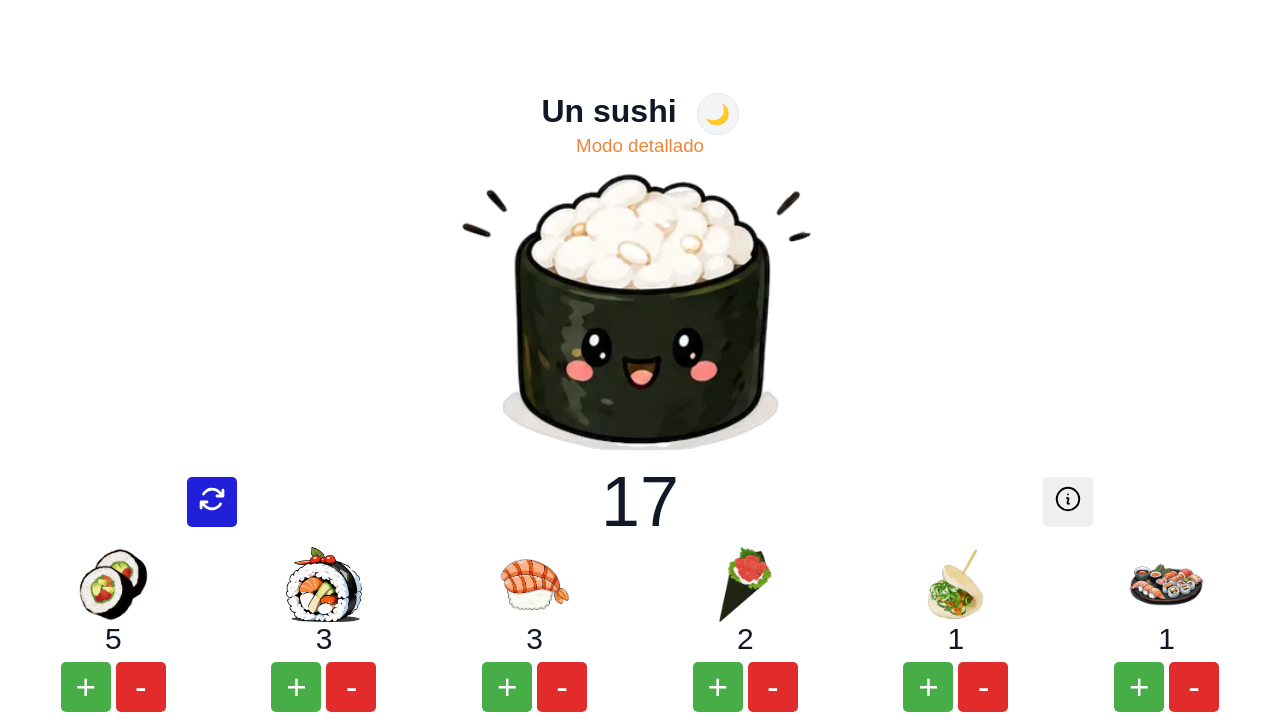
Test: SushiDetailedCounter › should decrement counter and uramaki when we pulse quit
The image size is (1280, 720).
(page scrolled)
Check: the 1st text "3" is shown, box top-left (316, 622), bottom-right (332, 656)
Click the 2nd button "-" at (352, 687), box top-left (326, 662), bottom-right (376, 712)
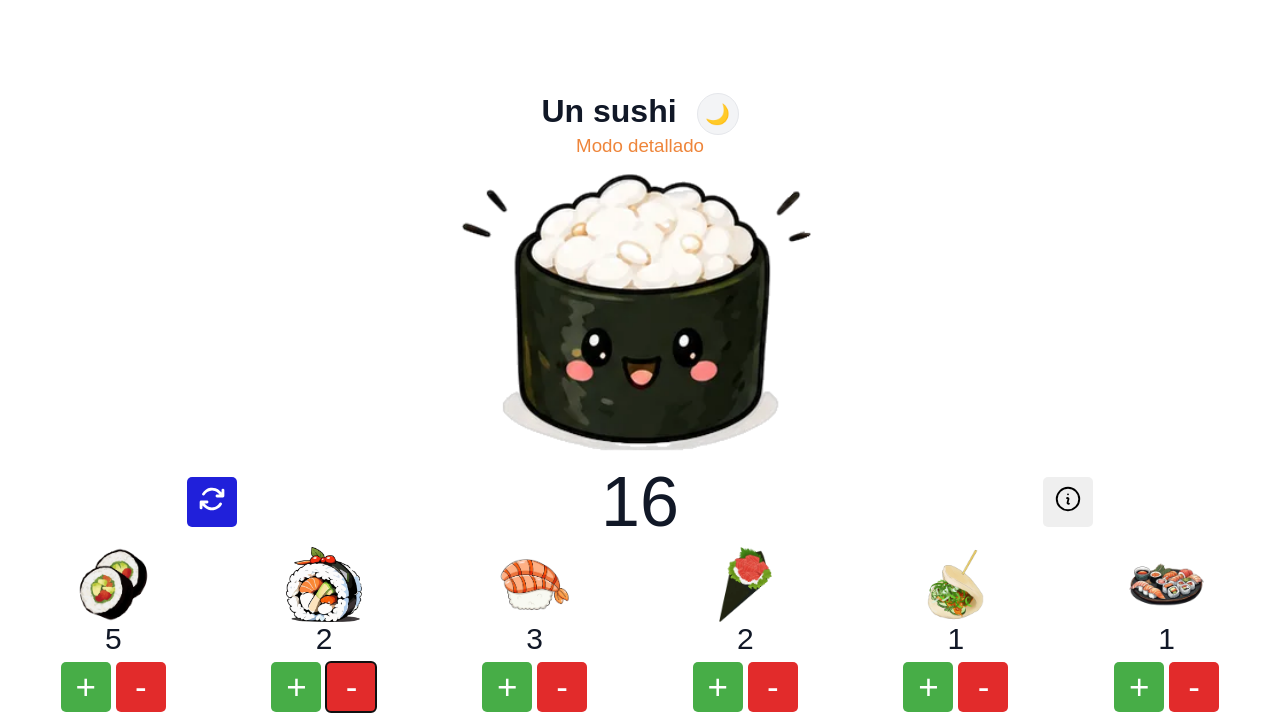
Check: the text "16" is shown, box top-left (601, 462), bottom-right (679, 542)
Check: the text with id "detailed-counter" reads "16", box top-left (601, 463), bottom-right (679, 541)
Click the 2nd button "-" at (352, 687), box top-left (326, 662), bottom-right (376, 712)
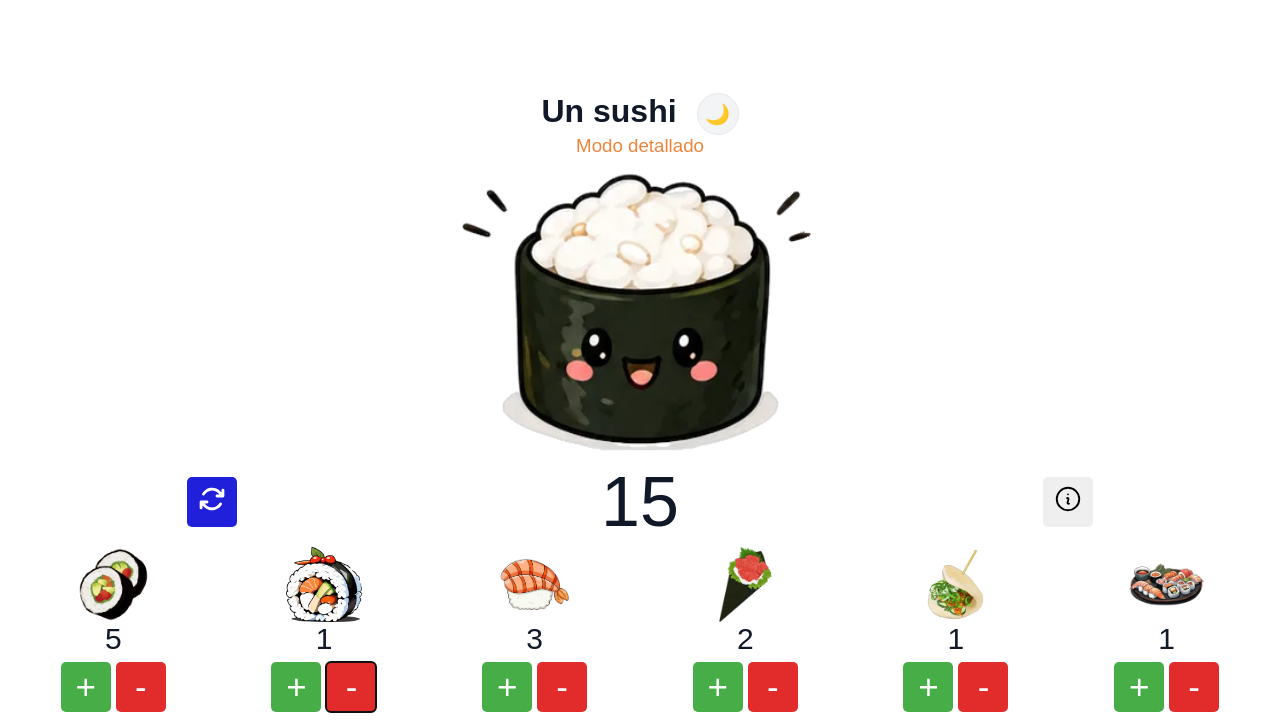
Click the 2nd button "-" at (352, 687), box top-left (326, 662), bottom-right (376, 712)
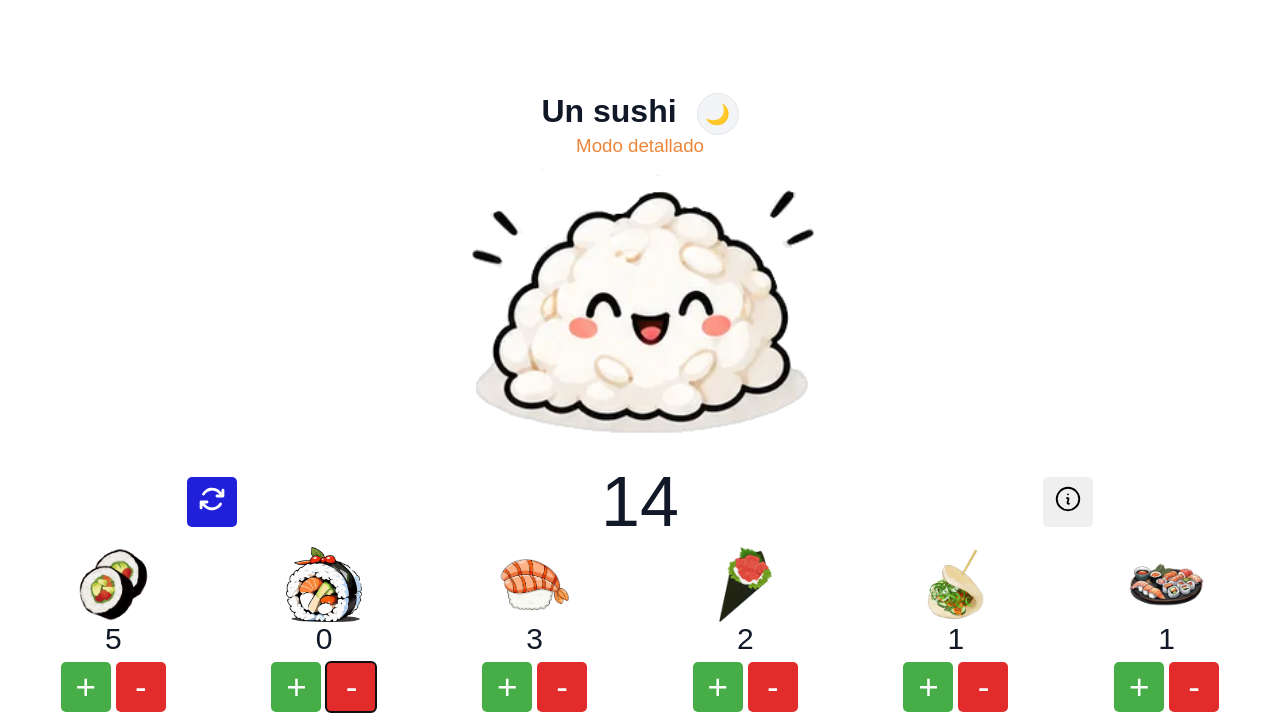
Check: the text "14" is shown, box top-left (601, 462), bottom-right (679, 542)
Check: the text with id "detailed-counter" reads "14", box top-left (601, 463), bottom-right (679, 541)
